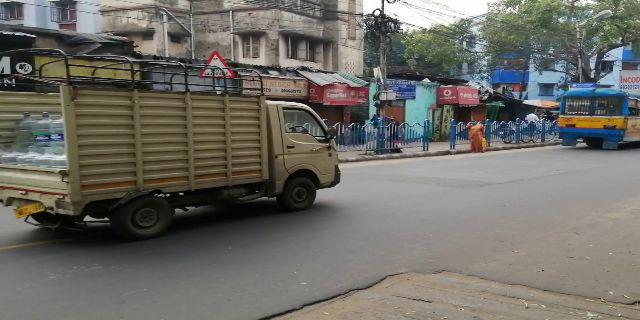Bus: (555, 88, 637, 145)
Minitruck: (4, 66, 340, 237)
